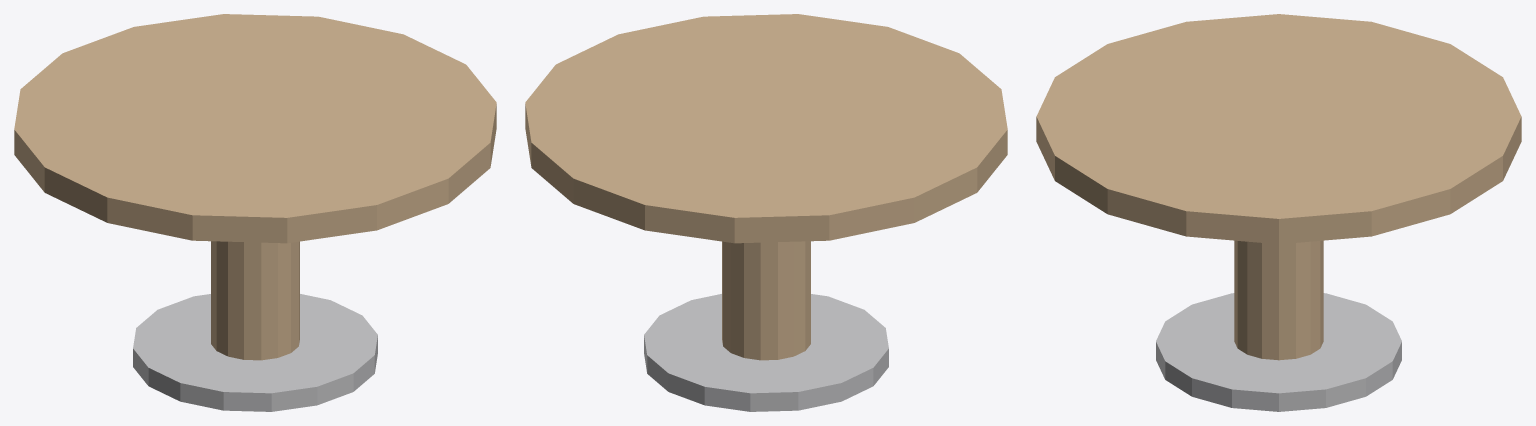
File: round_dining_table_low.glb
3 renders of one model, left to right at view 1: azimuth 30°, elevation 25°; view 2: azimuth 150°, elevation 25°; view 3: azimuth 270°, elevation 25°, orthographic.
Parts seen in each view (by area): view 1: WOOD_top, METAL_DARK_base, WOOD_DARK_pedestal; view 2: WOOD_top, METAL_DARK_base, WOOD_DARK_pedestal; view 3: WOOD_top, METAL_DARK_base, WOOD_DARK_pedestal.
Boxes of the visible parts, bbox=[...] form: WOOD_top: bbox=[14, 14, 496, 243]; METAL_DARK_base: bbox=[133, 294, 377, 411]; WOOD_DARK_pedestal: bbox=[211, 241, 299, 360]; WOOD_top: bbox=[525, 14, 1007, 243]; METAL_DARK_base: bbox=[644, 294, 888, 411]; WOOD_DARK_pedestal: bbox=[722, 241, 810, 360]; WOOD_top: bbox=[1036, 14, 1521, 244]; METAL_DARK_base: bbox=[1156, 293, 1401, 411]; WOOD_DARK_pedestal: bbox=[1234, 240, 1323, 360].
Size of the model in its own units: 1.3 by 0.72 by 1.3.
